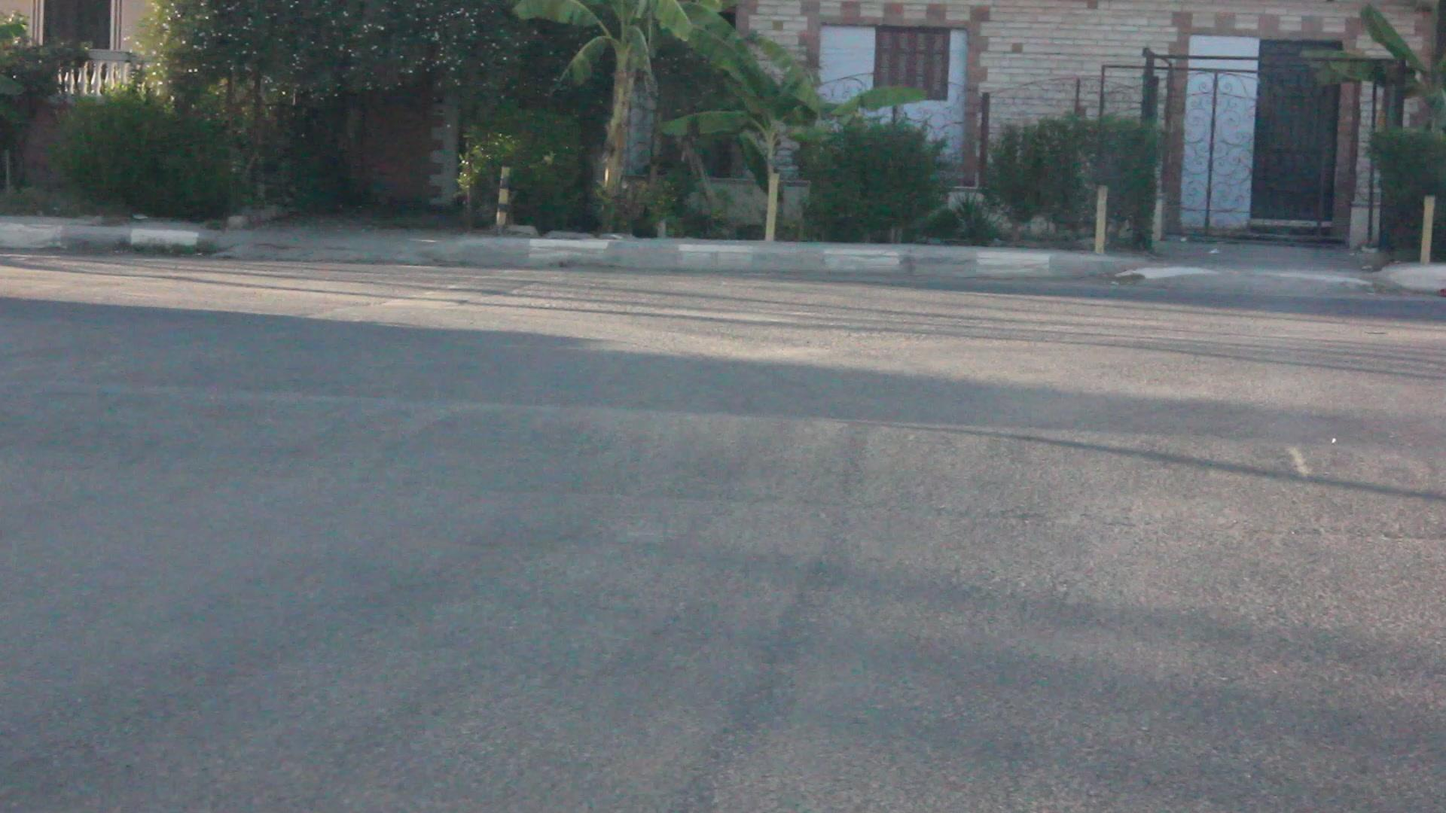Bump: (2, 375, 1446, 533)
